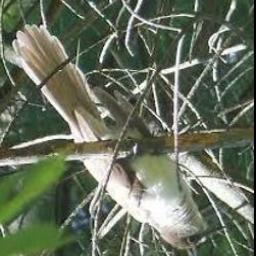Cuckoo: (12, 25, 227, 249)
